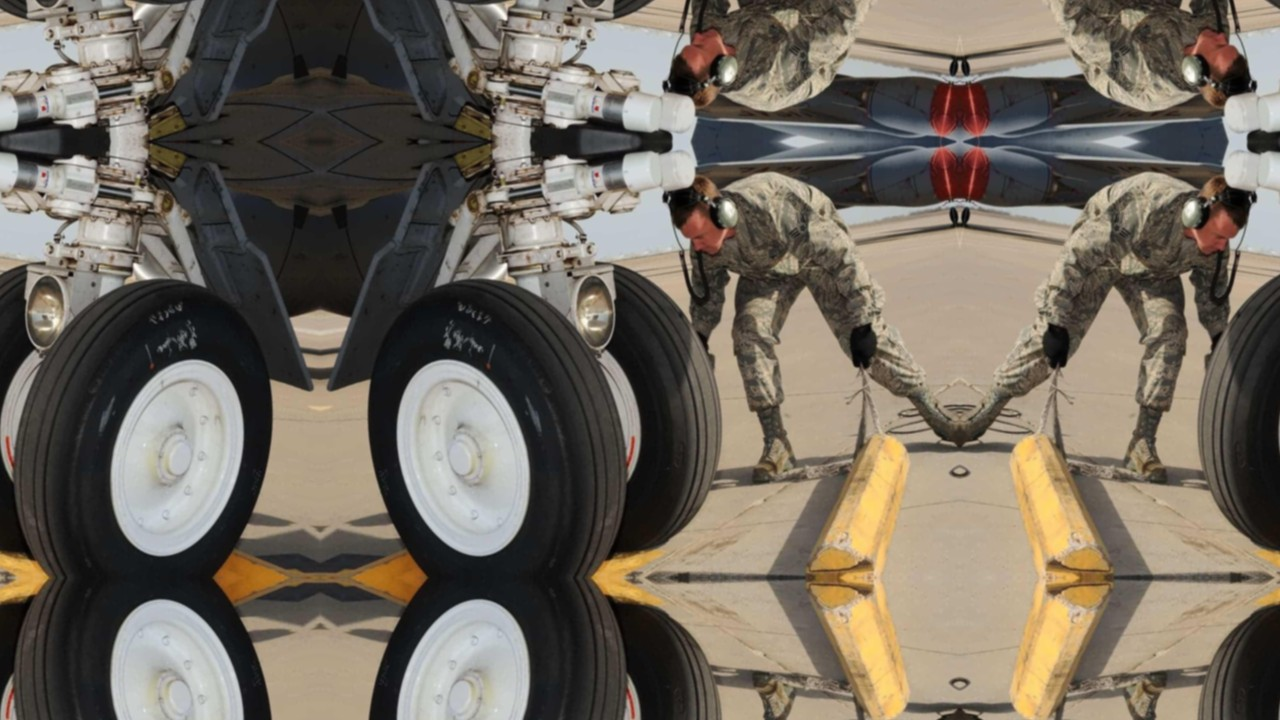chock: (779, 425, 933, 578), (987, 425, 1141, 578), (779, 578, 933, 720), (987, 578, 1141, 720)
wheel: (347, 256, 651, 578), (0, 256, 293, 578), (550, 244, 742, 557), (347, 578, 651, 720), (0, 578, 293, 720), (1178, 244, 1280, 557), (0, 244, 90, 557), (550, 599, 742, 720), (1178, 599, 1280, 720), (0, 599, 90, 720), (550, 0, 742, 39)
